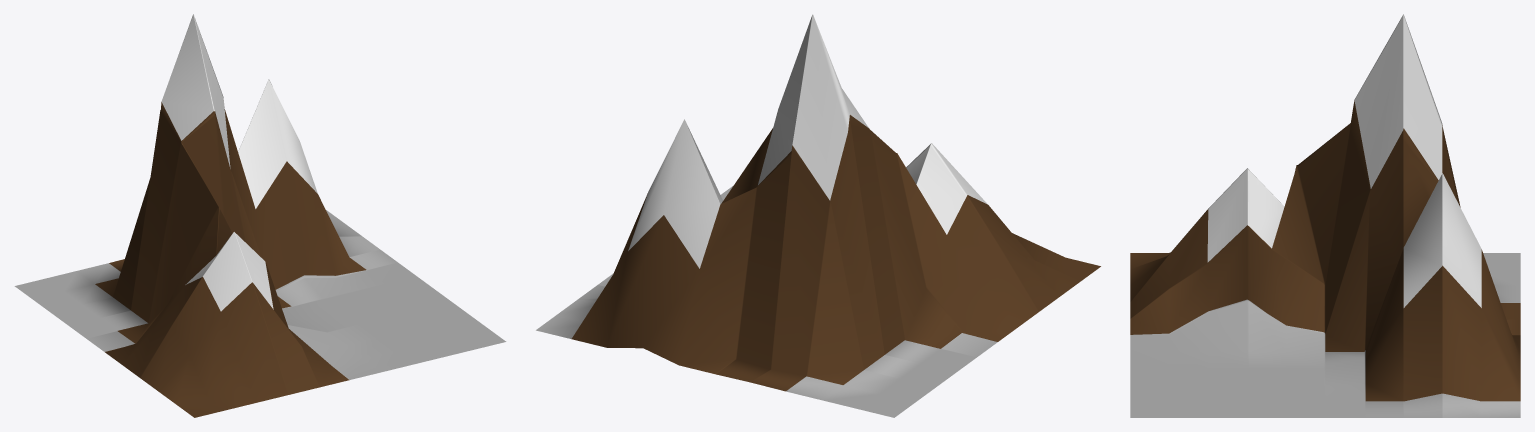
File: Mountain2.fbx
3 views of the same model, side by side, from view 1: azimuth 30°, elevation 25°; view 2: azimuth 150°, elevation 25°; view 3: azimuth 270°, elevation 25° (orthographic). The views are drawn at different scales.
Visible parts, largest first — view 1: pPlane1; view 2: pPlane1; view 3: pPlane1.
Part boxes in pixels (x1=…): pPlane1: x1=14, y1=14, x2=506, y2=417; pPlane1: x1=536, y1=14, x2=1100, y2=417; pPlane1: x1=1130, y1=14, x2=1520, y2=417.
Size of the model in its own units: 60.58 by 52.49 by 60.58.
